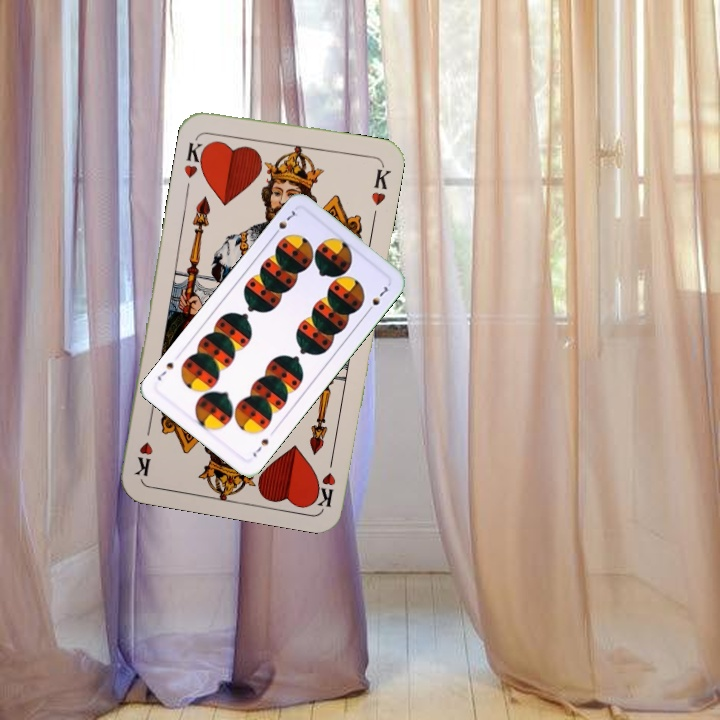HK: (311, 449, 339, 509), (180, 132, 211, 181)
S7: (269, 205, 300, 239), (249, 435, 271, 460)
